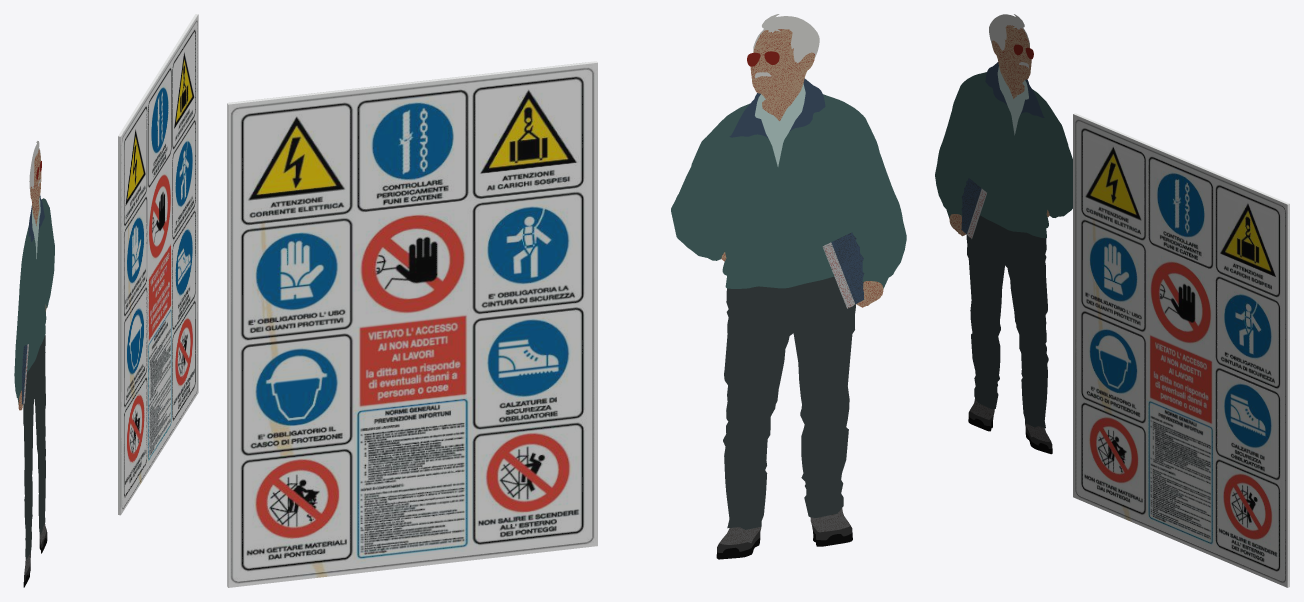
The picture shows the model from 3 angles, left to right: view 1: azimuth 30°, elevation 25°; view 2: azimuth 150°, elevation 25°; view 3: azimuth 270°, elevation 25°; orthographic projection. The views are drawn at different scales.
Visible parts, largest first — view 1: group_0, Steve (×3); view 2: group_0, Steve (×6); view 3: group_0, Steve (×6).
Boxes of the visible parts, x1,y1,x2,y2 form: group_0: (118, 14, 198, 515); Steve (×3): (14, 149, 54, 559); group_0: (227, 61, 597, 587); Steve (×6): (671, 14, 906, 529); group_0: (1073, 113, 1289, 587); Steve (×6): (935, 14, 1072, 428).
Bounding box in the file's own units: 59.24 × 50.21 × 66.71.
Materials: 13 (1 with a texture image).
